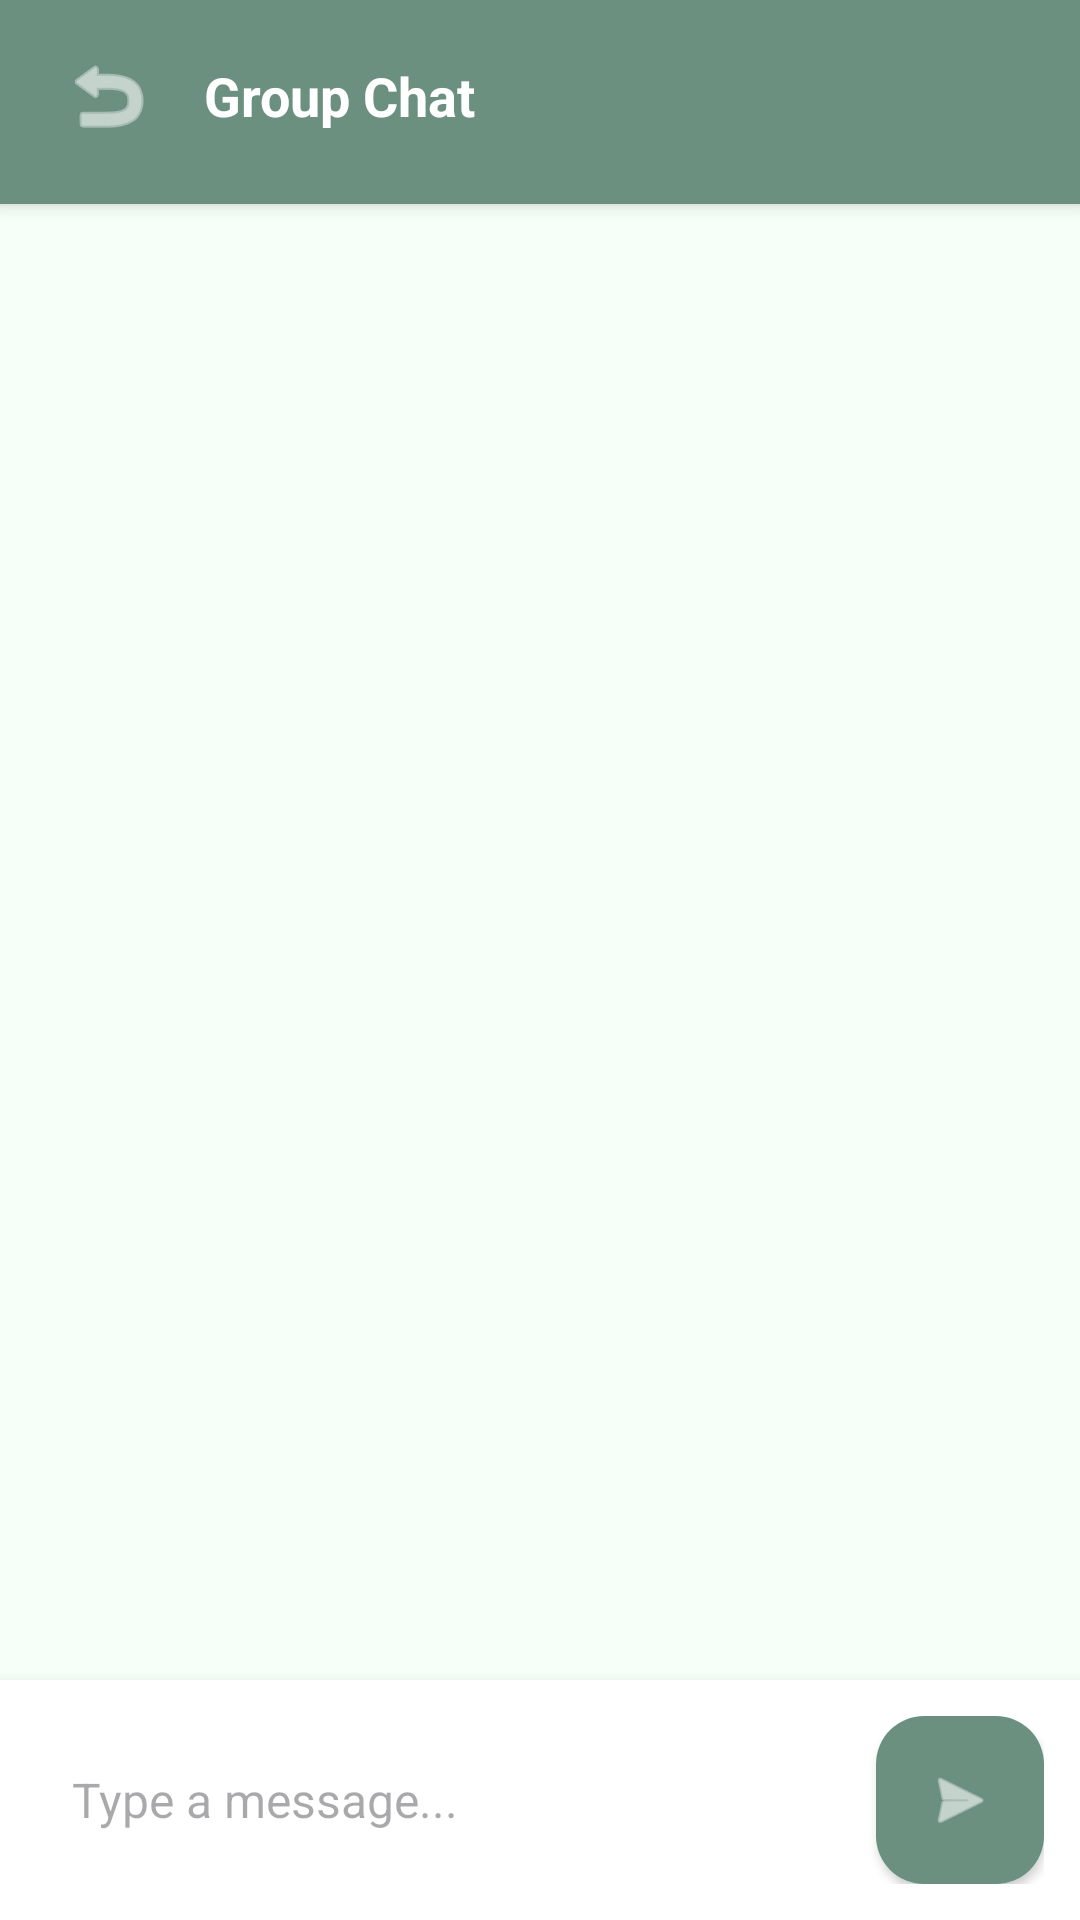

Screen size 1080px×1920px. Icon name, then its center in pixels as (x=x, y=y):
Back: (x=109, y=97)
send: (x=960, y=1800)
